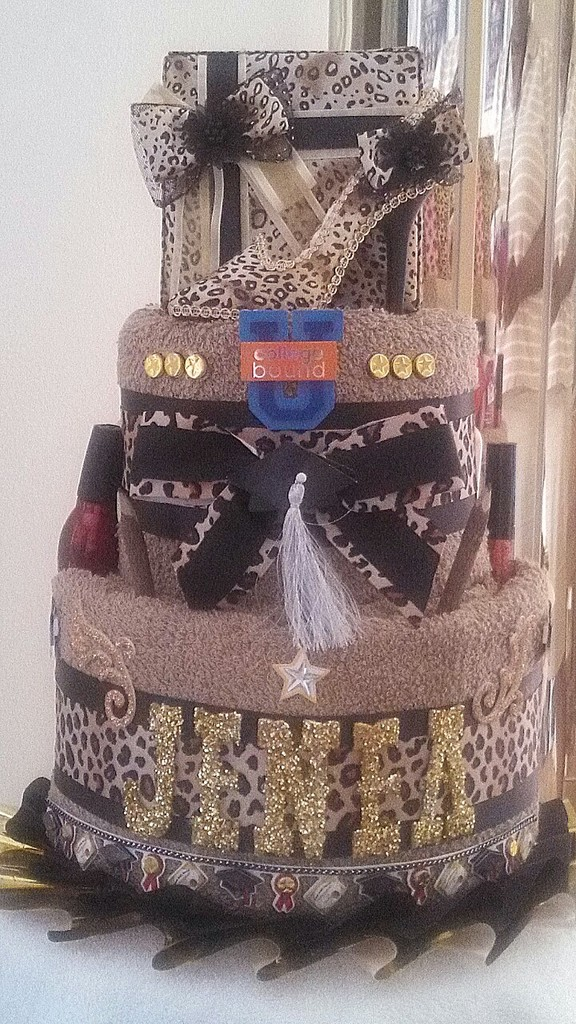cake: (45, 309, 558, 923)
